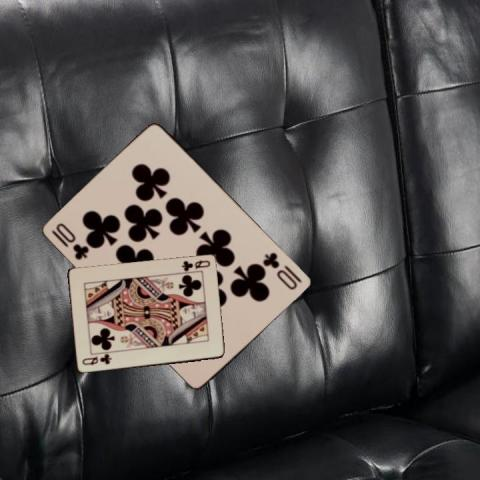10c: (260, 249, 304, 291), (49, 220, 91, 262)
Qc: (179, 257, 211, 273), (79, 352, 113, 367)
